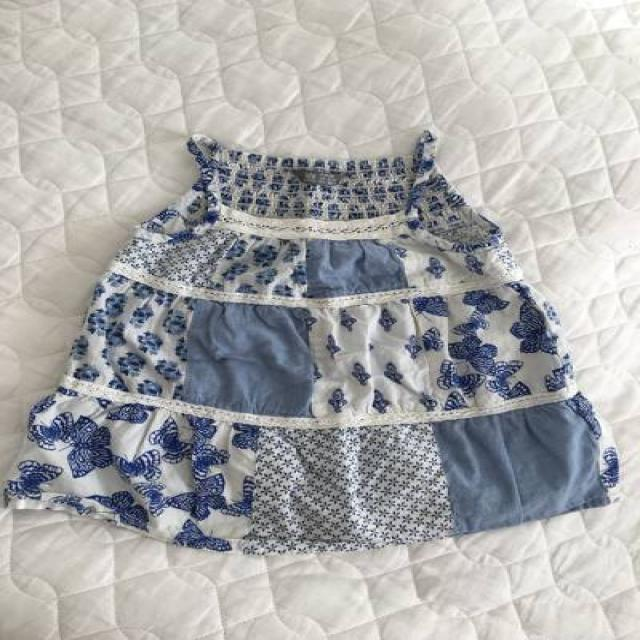Clothes -Biodegradable-: (0, 134, 619, 559)
